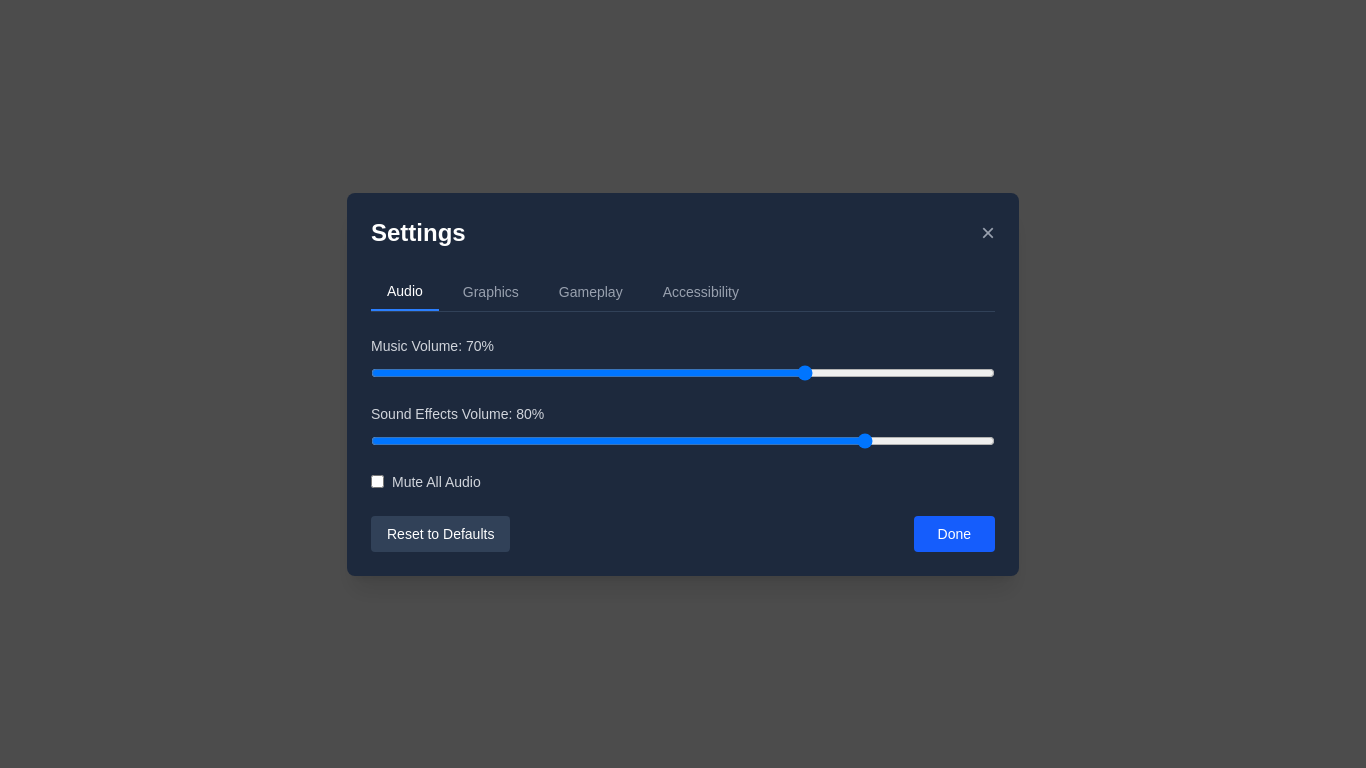
Test: SettingsModal › should switch to accessibility tab when clicked
What coordinates should you click on to do the following:
click the button "accessibility"
I would click on:
 (701, 292)
Its box is [647,272,755,310].
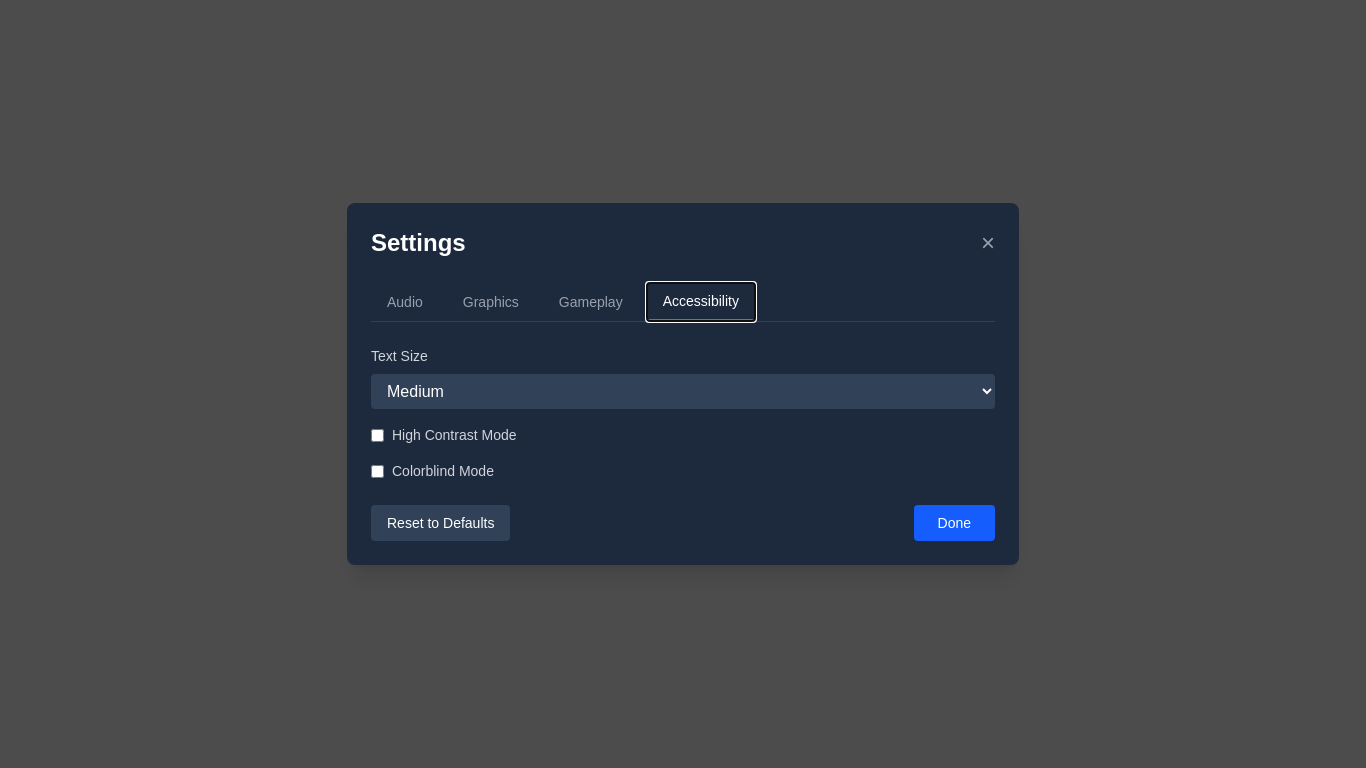
Check: the text "Text Size" is shown, box [371,348,428,364]
Check: the checkbox labelled "High Contrast Mode" is shown, box [371,428,384,442]
